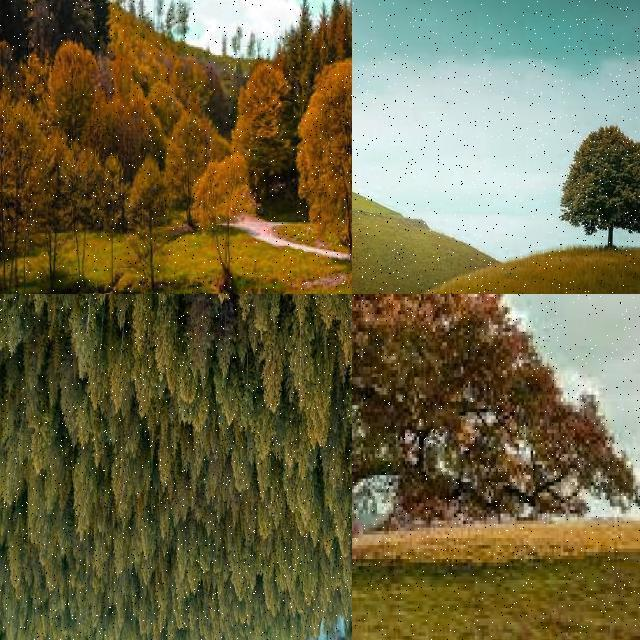tree: (352, 294, 640, 558), (300, 54, 352, 280), (552, 122, 640, 254), (0, 99, 48, 294), (237, 64, 296, 206), (38, 146, 94, 294), (122, 150, 174, 294), (167, 126, 233, 222), (95, 148, 131, 294), (52, 48, 104, 142), (193, 154, 251, 238), (170, 108, 226, 192), (352, 53, 396, 143), (238, 294, 292, 362), (286, 311, 314, 413), (66, 294, 98, 378), (306, 341, 332, 443), (222, 349, 254, 427), (71, 448, 97, 544), (0, 294, 44, 350), (300, 294, 336, 358), (108, 321, 130, 415), (261, 327, 283, 417), (130, 344, 154, 420), (154, 297, 176, 378), (0, 294, 28, 354), (84, 294, 116, 346), (30, 411, 56, 474), (209, 294, 237, 352), (138, 294, 174, 338), (1, 338, 16, 442), (322, 422, 346, 486), (60, 364, 78, 448), (215, 308, 237, 376), (315, 294, 343, 346), (192, 294, 212, 366), (0, 294, 16, 382), (111, 456, 133, 520), (131, 502, 153, 566), (178, 336, 198, 406), (252, 404, 276, 461), (352, 246, 380, 294), (336, 294, 352, 378), (1, 328, 16, 417), (0, 294, 22, 354), (132, 294, 152, 351), (26, 294, 56, 330), (282, 417, 302, 471), (1, 386, 19, 446), (179, 294, 207, 332), (8, 524, 24, 590), (232, 437, 250, 495), (91, 406, 109, 464), (156, 426, 172, 490), (106, 294, 130, 336), (250, 294, 274, 334), (75, 390, 91, 450), (24, 333, 40, 391), (44, 464, 61, 516), (123, 417, 143, 459), (174, 528, 190, 580), (114, 524, 130, 576), (112, 294, 132, 334), (255, 456, 273, 500), (0, 369, 12, 435), (203, 460, 221, 504), (177, 294, 201, 326), (0, 294, 16, 342), (0, 424, 12, 488), (92, 532, 108, 580), (302, 557, 318, 605), (5, 350, 22, 394), (268, 481, 284, 527), (132, 294, 152, 330), (63, 294, 83, 330), (298, 471, 312, 522), (177, 474, 191, 524), (155, 294, 175, 328), (199, 294, 223, 322), (308, 493, 322, 541), (292, 294, 310, 330), (51, 328, 65, 374), (56, 474, 72, 514), (256, 500, 272, 540), (35, 320, 47, 372), (46, 555, 62, 593), (284, 471, 298, 514), (62, 294, 78, 330), (334, 492, 346, 540), (176, 580, 188, 628), (138, 588, 150, 636), (48, 364, 61, 408), (0, 314, 8, 384), (0, 428, 12, 474), (158, 496, 170, 540), (200, 530, 212, 574), (232, 561, 244, 603), (191, 488, 205, 524), (323, 516, 335, 556), (178, 425, 190, 463), (186, 594, 198, 632), (0, 530, 10, 574), (159, 554, 169, 598), (188, 560, 200, 596), (237, 294, 251, 324), (46, 294, 62, 320), (212, 520, 224, 554), (110, 294, 130, 314), (1, 494, 8, 550), (340, 526, 352, 558), (263, 574, 273, 610), (342, 556, 352, 592), (292, 528, 300, 572), (1, 570, 8, 620), (231, 494, 241, 528), (0, 294, 12, 322), (1, 446, 8, 494), (80, 294, 102, 308), (327, 623, 344, 640), (203, 511, 214, 537), (210, 423, 218, 457), (334, 553, 342, 587), (1, 545, 8, 583), (253, 608, 261, 640), (0, 294, 8, 320), (344, 618, 352, 640), (0, 294, 6, 312)
